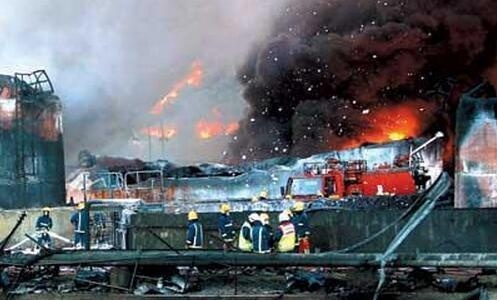fire: (138, 59, 240, 139), (348, 105, 420, 144), (198, 115, 237, 137)
